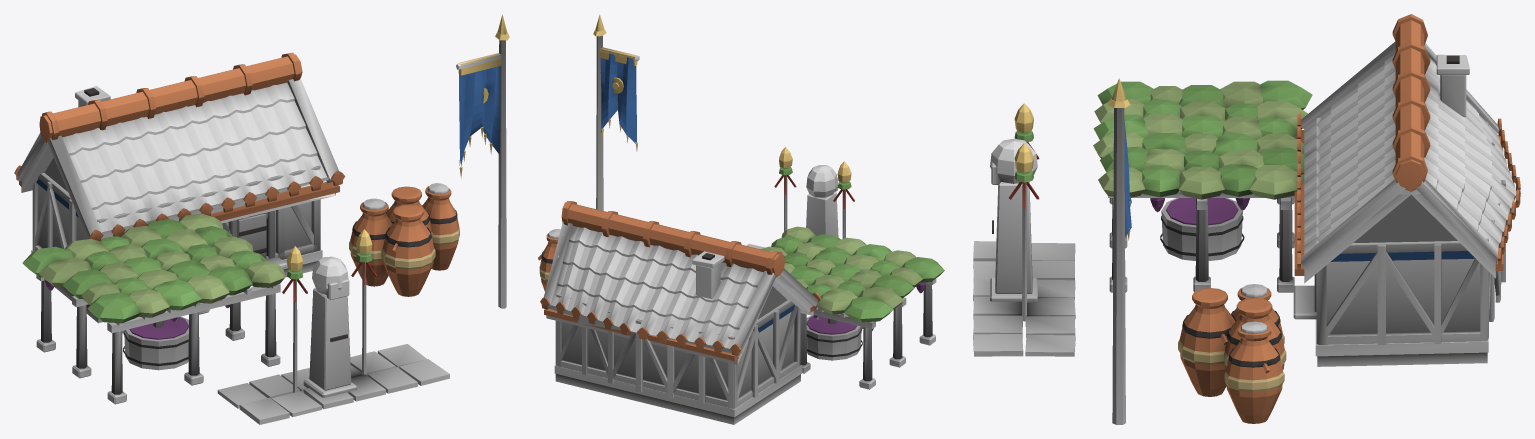
Rendered from brewery-l1.glb.
The picture shows the model from 3 angles, left to right: view 1: azimuth 30°, elevation 25°; view 2: azimuth 150°, elevation 25°; view 3: azimuth 270°, elevation 25°; orthographic projection. The views are drawn at different scales.
Visible parts, largest first — view 1: brewery-l1; view 2: brewery-l1; view 3: brewery-l1.
Boxes of the visible parts, box(x1,y1,x2,y2) form: brewery-l1: box(14, 14, 509, 424); brewery-l1: box(538, 14, 944, 424); brewery-l1: box(973, 14, 1520, 424).
Bounding box in the file's own units: 1.41 × 0.945 × 1.36.
